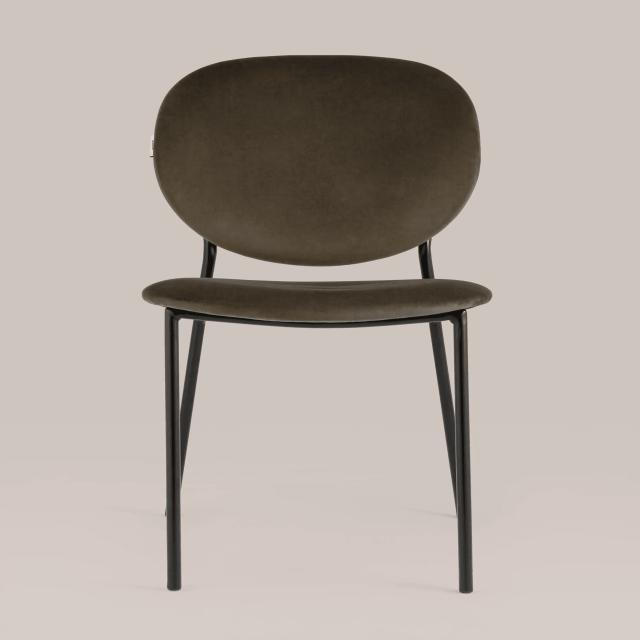chair: (137, 46, 497, 598)
